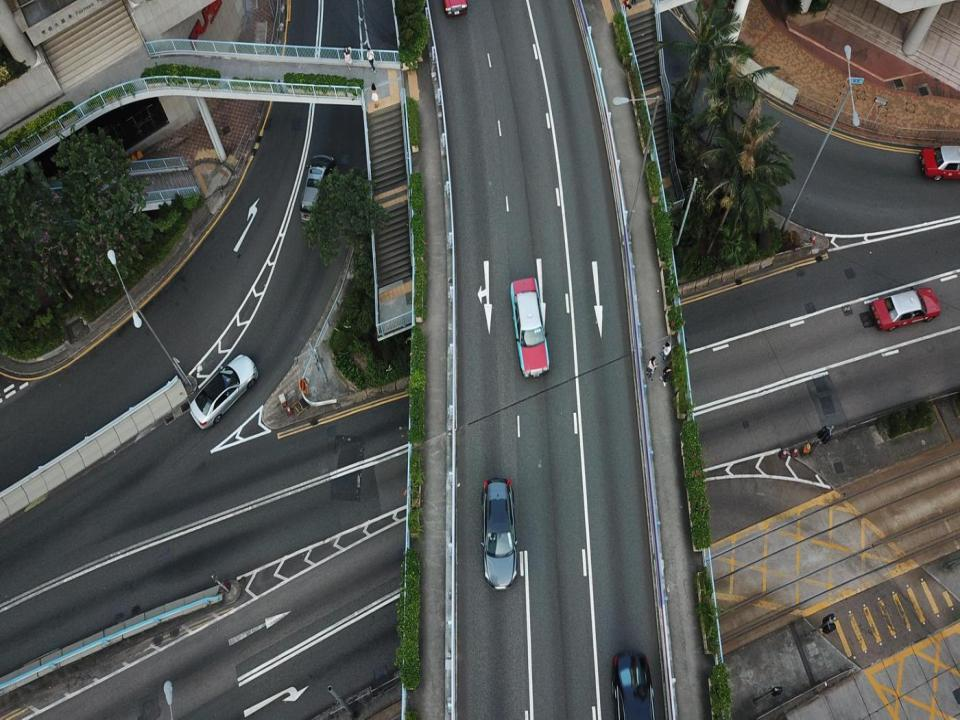car: (190, 354, 258, 428), (509, 277, 550, 377), (482, 477, 515, 588), (611, 649, 655, 719), (870, 289, 940, 329), (301, 153, 335, 223)
